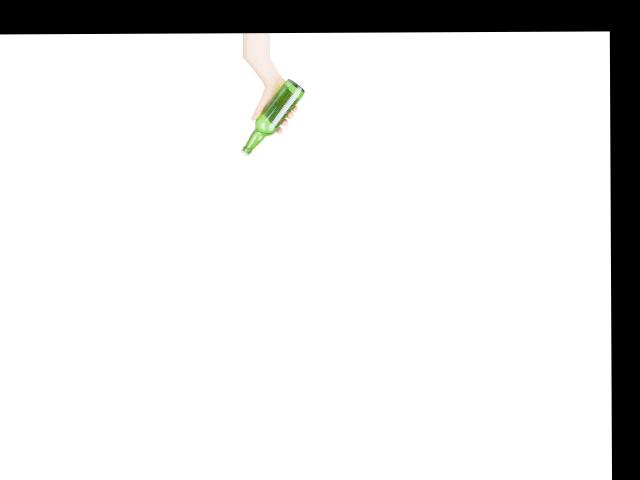beer: (240, 77, 304, 154)
